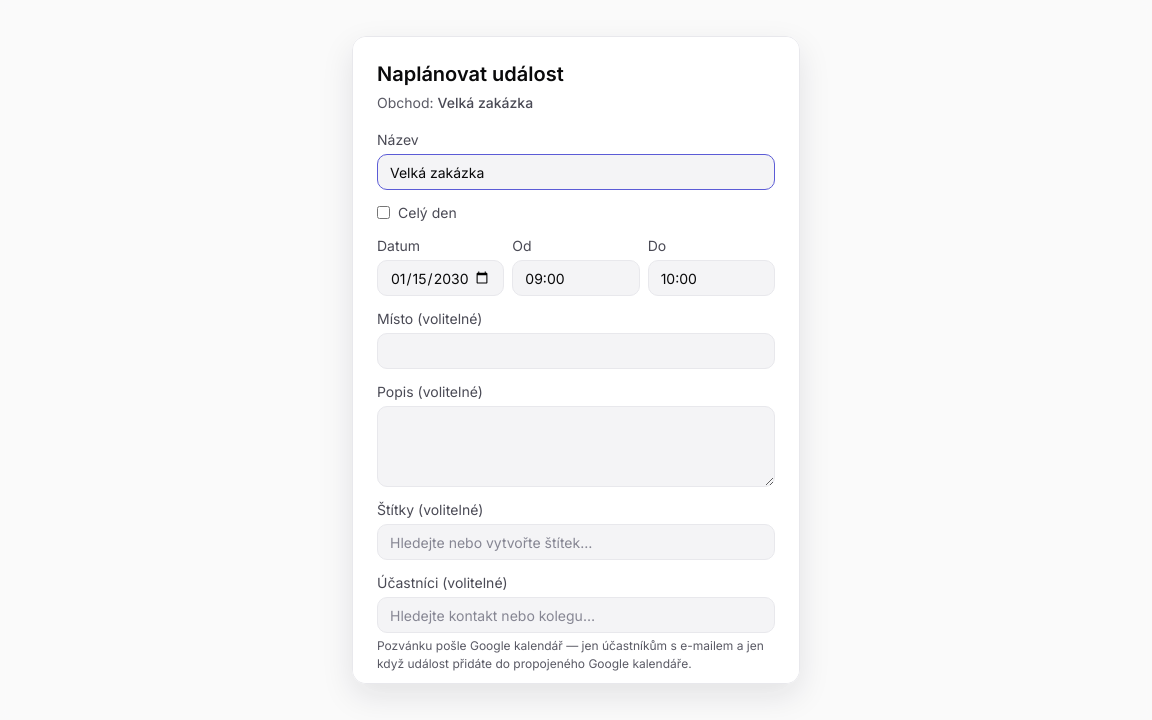
EventFormModal time comboboxes › clamps a shifted end to 23:59 instead of crossing midnight
Step 1. Click the dropdown with test id "event-form-time-start" → click(576, 278), box [512,260,640,296]
(page scrolled)
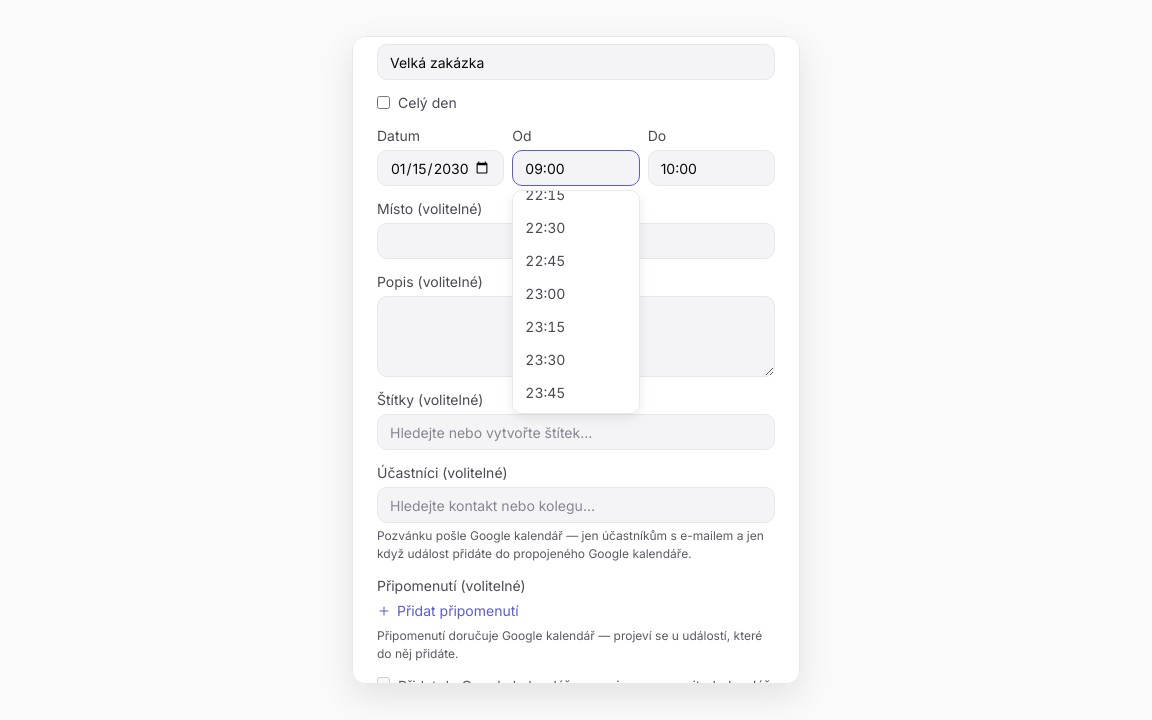
Step 2. Click the option "23:30" → click(576, 360), box [513,343,639,376]
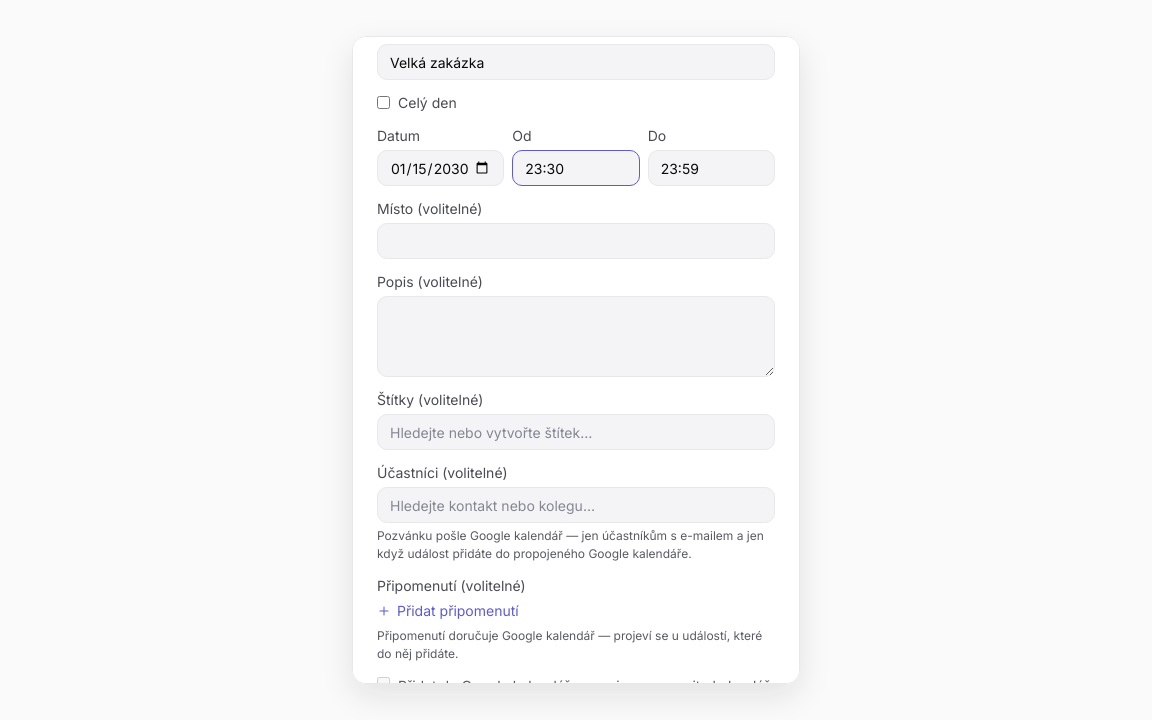
Expected: the dropdown with test id "event-form-time-end" holds "23:59", [648,150,775,186]
